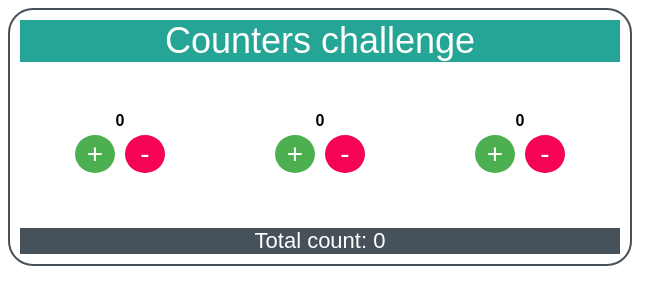
Counter 2 should show an decrement of 1 when pressing -
The image size is (649, 283).
Click the button with test id "decrement-btn-2": (345, 154) x1=325 y1=135 x2=365 y2=173
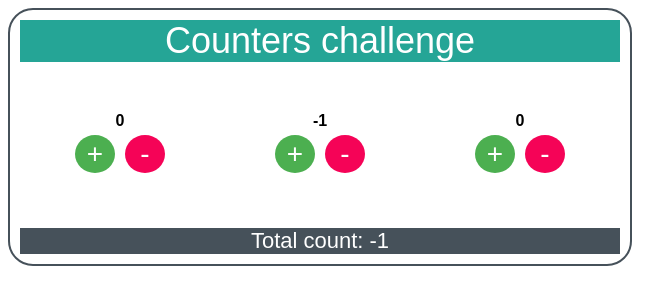
Check: the text with test id "counter-2" reads "-1", box x1=313 y1=112 x2=327 y2=129
